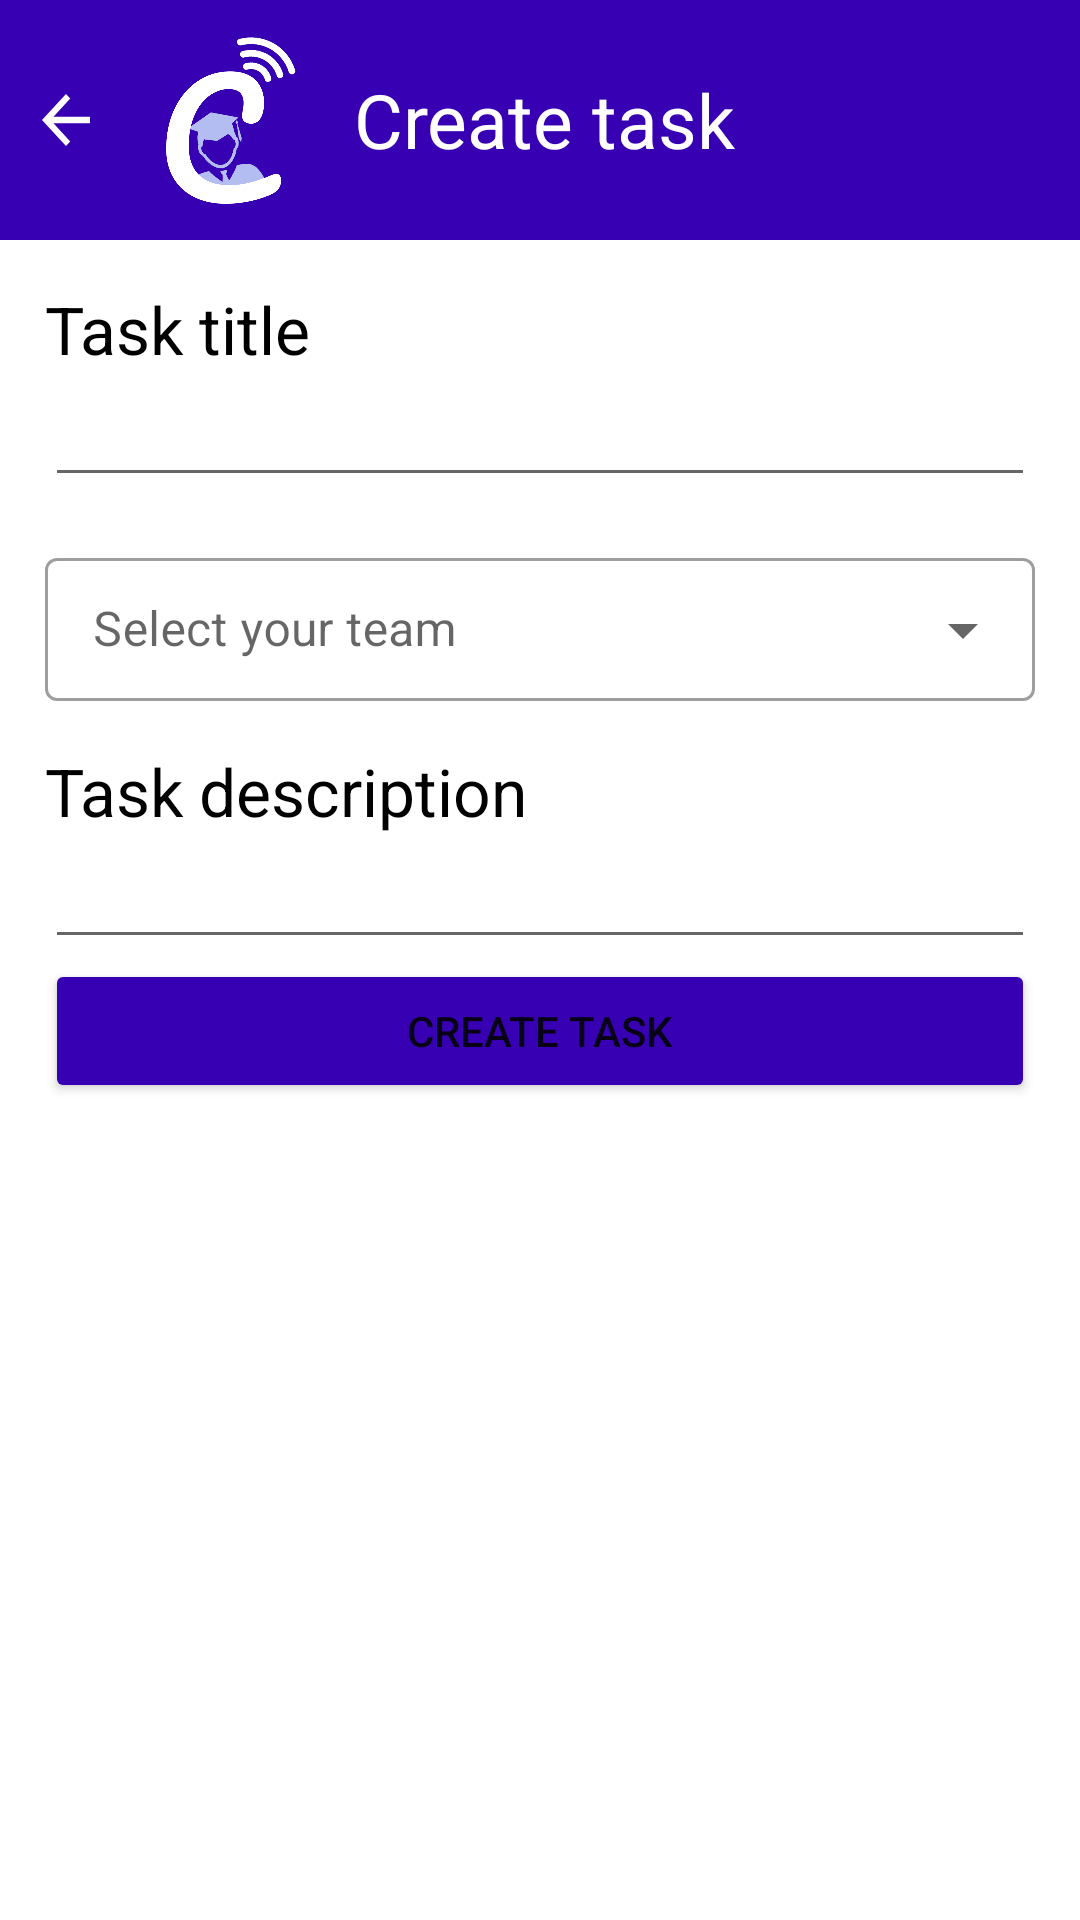

Named icons in this screenshot (1080x1920) and their bounding boxes, (x1, y1, x2, y2):
back: (42, 94, 90, 146)
